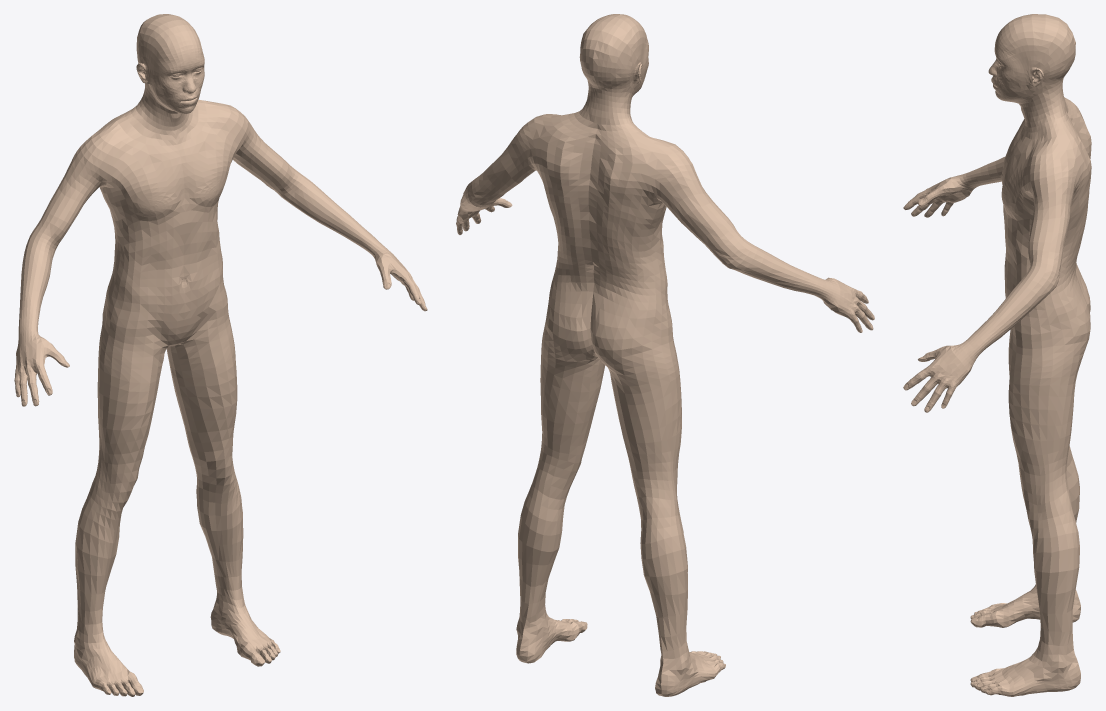
File: male-young-lean-high.glb
3 views of the same model, side by side, from view 1: azimuth 30°, elevation 25°; view 2: azimuth 150°, elevation 25°; view 3: azimuth 270°, elevation 25° (orthographic).
Visible parts, largest first — view 1: world; view 2: world; view 3: world.
Boxes of the visible parts, <box> form: world: <box>14,14,427,696</box>; world: <box>456,14,874,696</box>; world: <box>903,14,1091,696</box>.
Bounding box in the file's own units: 1.26 × 1.92 × 0.5116.
